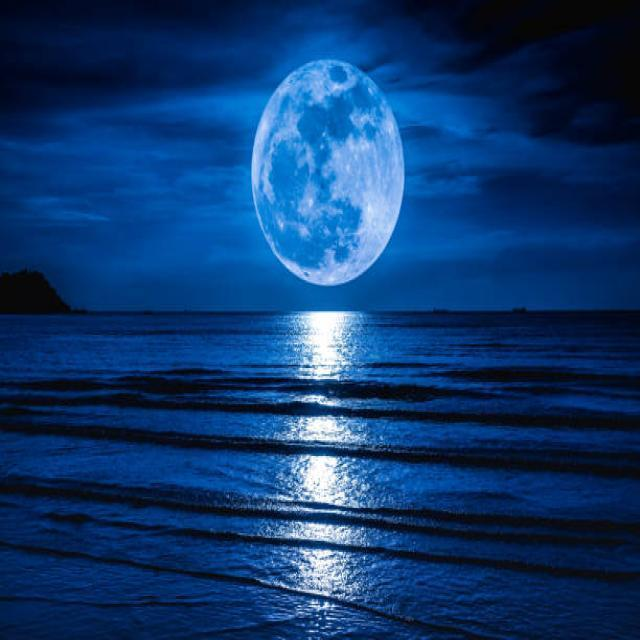moon: (254, 60, 406, 288)
